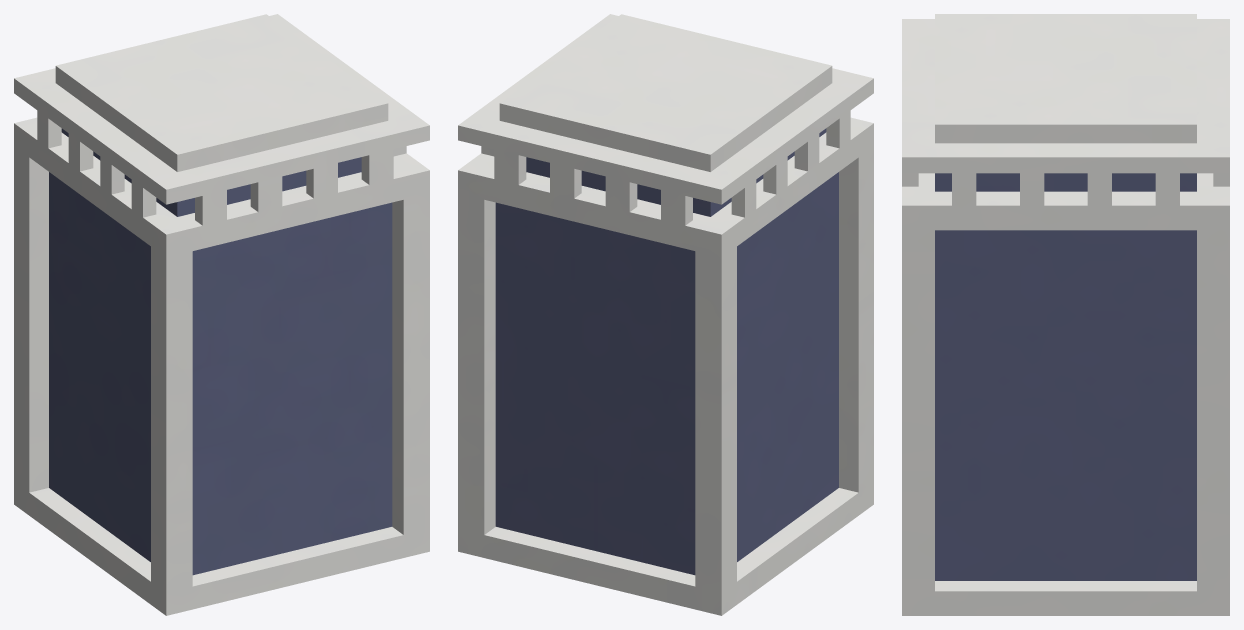
Rendered from Stand_New.fbx.
3 views of the same model, side by side, from view 1: azimuth 30°, elevation 25°; view 2: azimuth 150°, elevation 25°; view 3: azimuth 270°, elevation 25° (orthographic). The views are drawn at different scales.
Visible parts, largest first — view 1: Cube; view 2: Cube; view 3: Cube.
Part boxes in pixels (x1,y1,x2,y2): Cube: [14, 14, 429, 615]; Cube: [458, 14, 873, 615]; Cube: [902, 14, 1229, 615].
Size of the model in its own units: 92.25 by 148 by 92.25.
